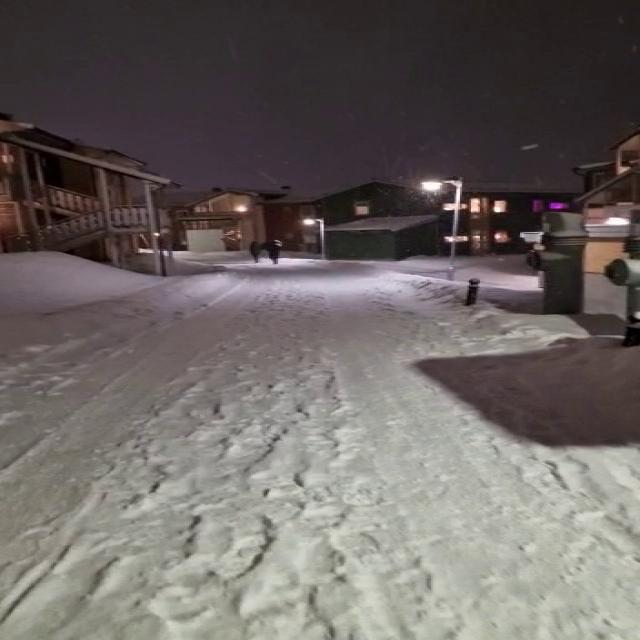path: (0, 260, 640, 640)
